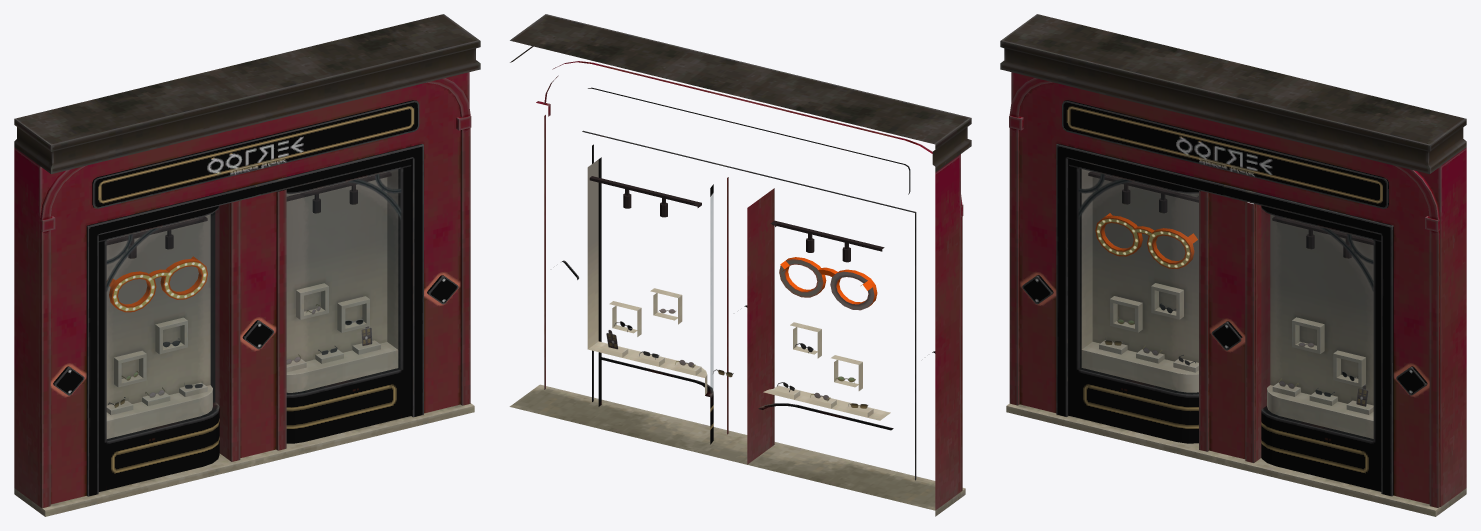
File: t1_b_boutique5_wall.glb
The picture shows the model from 3 angles, left to right: view 1: azimuth 30°, elevation 25°; view 2: azimuth 150°, elevation 25°; view 3: azimuth 330°, elevation 25°; orthographic projection.
Parts seen in each view (by area): view 1: nomerge_t1_b_boutique5_wall_model_mesh; view 2: nomerge_t1_b_boutique5_wall_model_mesh; view 3: nomerge_t1_b_boutique5_wall_model_mesh.
Part boxes in pixels (x1,y1,x2,y2): nomerge_t1_b_boutique5_wall_model_mesh: [14, 14, 480, 516]; nomerge_t1_b_boutique5_wall_model_mesh: [509, 14, 971, 516]; nomerge_t1_b_boutique5_wall_model_mesh: [1000, 14, 1466, 516].
Size of the model in its own units: 5.5 by 4.6 by 0.8132.
3 materials, 3 textured.
